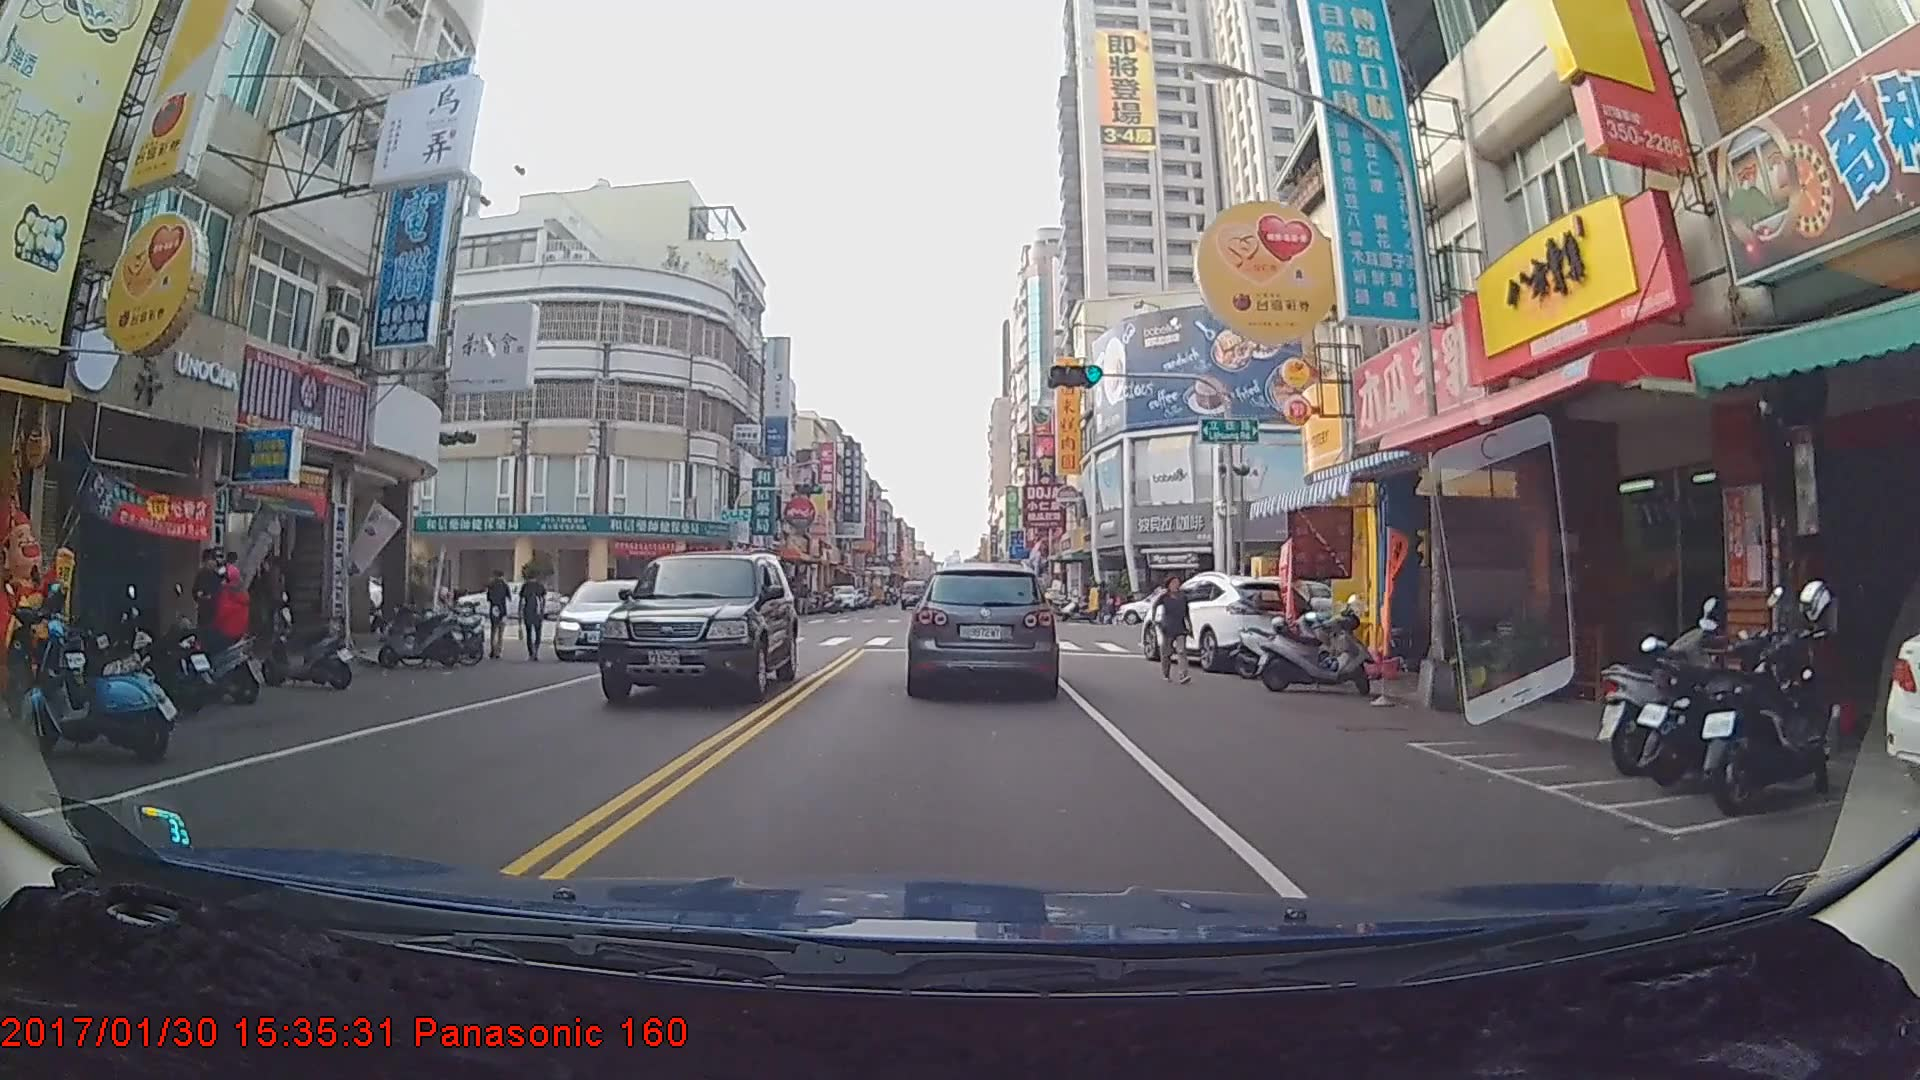pedestrian: (185, 543, 238, 675), (1155, 575, 1194, 682), (512, 565, 551, 658), (488, 570, 513, 665)
rider: (157, 562, 264, 707)
vehicle: (598, 549, 798, 704), (910, 562, 1056, 697), (1139, 572, 1323, 670), (553, 577, 668, 662), (826, 581, 859, 610), (899, 576, 928, 607)
